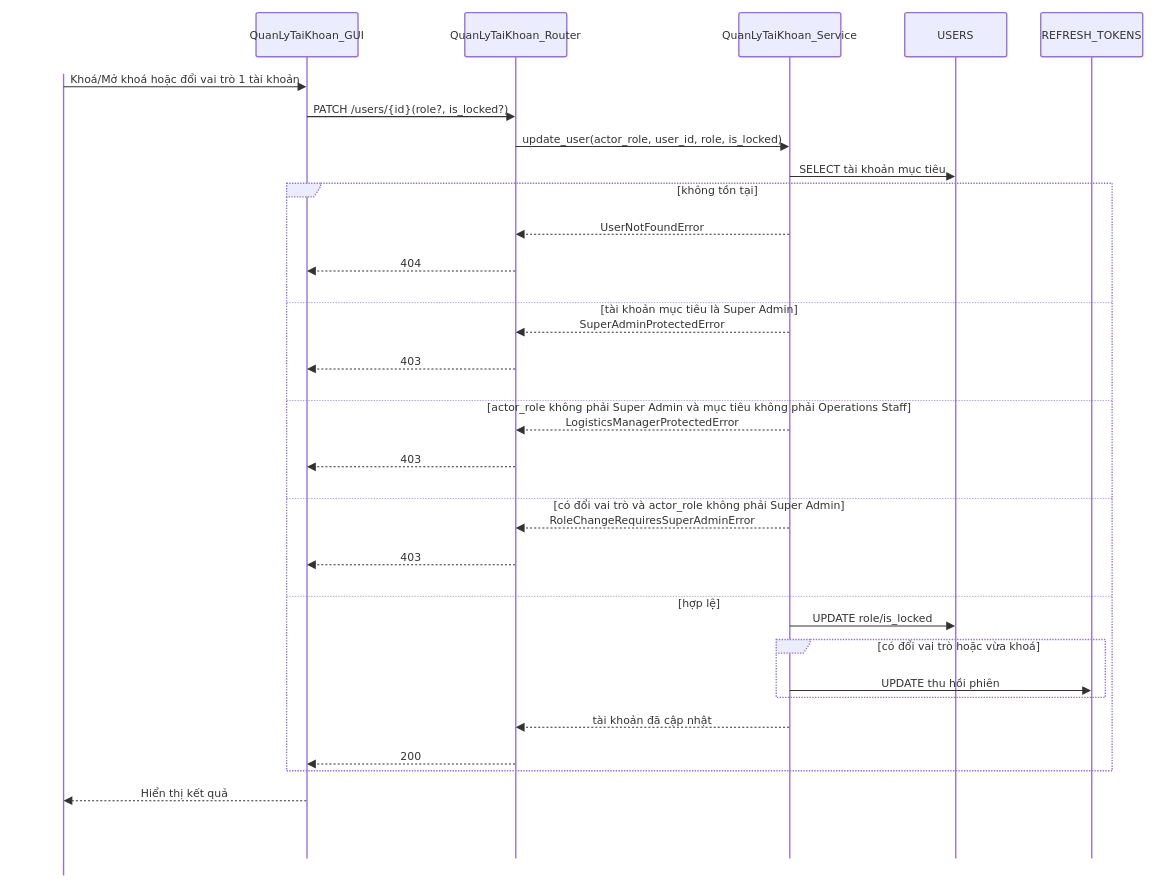
The diagram is 1155 pixels wide and 887 high, and some of its shapes have lost their labels. The shapes that lost their labels are listed below. From the top down, each one's box as (x1, y1, x2, y2) in pixels, then its label:
(12, 12, 115, 876): Người dùng quản trị
(286, 182, 1112, 771): alt
(775, 639, 1106, 698): opt
